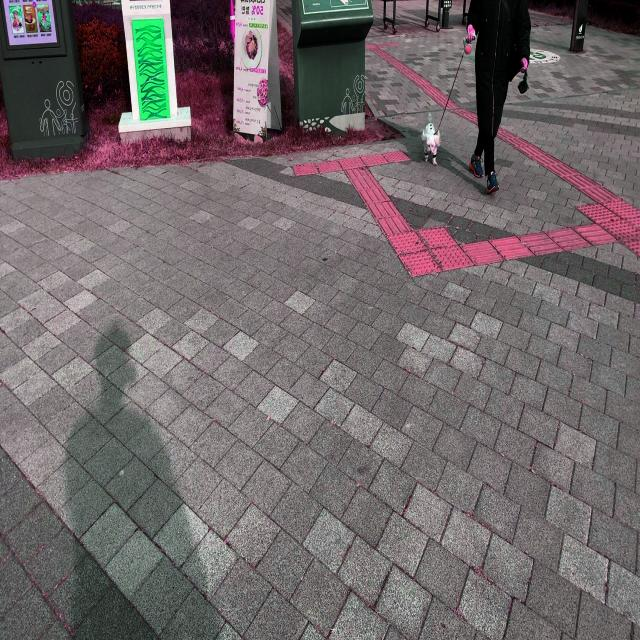Leashed_Dog: (419, 26, 492, 168)
